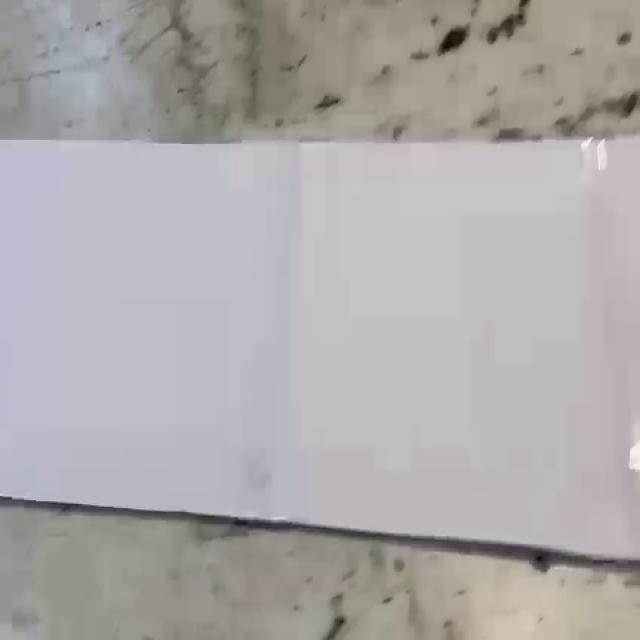road: (0, 136, 640, 559)
